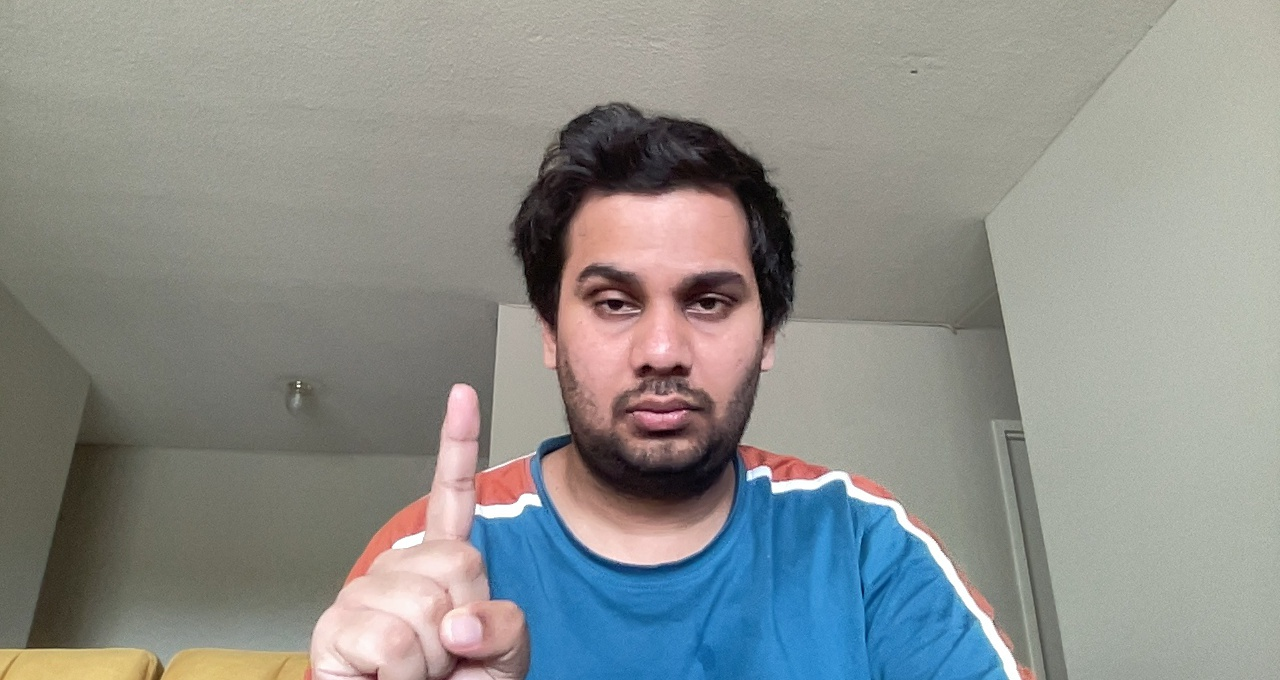fingerup: (307, 375, 531, 677)
